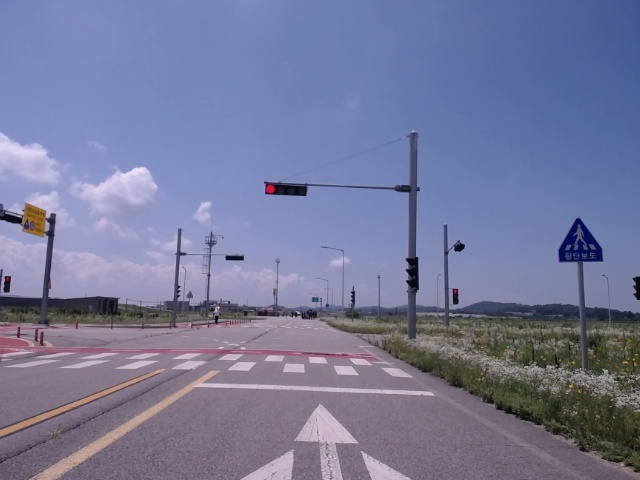red_4: (265, 184, 306, 196)
